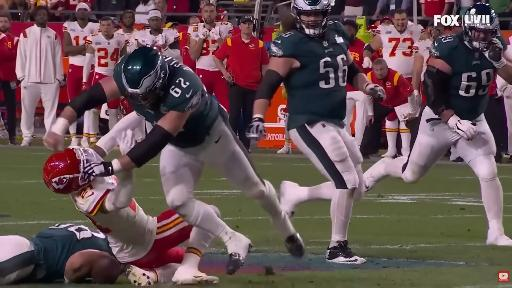Helmet: (122, 46, 169, 107), (43, 148, 102, 194), (463, 3, 499, 50), (293, 0, 330, 36), (119, 97, 134, 116)
Jersey: (127, 58, 222, 147), (270, 22, 348, 129), (72, 177, 156, 262), (430, 35, 496, 120), (29, 224, 113, 282), (377, 25, 423, 77), (86, 34, 127, 75), (134, 28, 179, 56), (63, 22, 99, 45), (196, 35, 219, 70), (413, 39, 432, 80), (115, 29, 138, 53), (115, 29, 138, 39)
Player: (45, 47, 304, 274), (248, 0, 384, 263), (365, 3, 511, 245), (44, 131, 218, 285), (0, 224, 125, 284), (188, 3, 233, 110), (363, 10, 423, 82), (63, 3, 98, 100), (86, 17, 127, 84), (412, 21, 444, 102), (135, 10, 182, 61), (115, 10, 138, 53), (180, 31, 195, 71), (134, 120, 152, 141)
